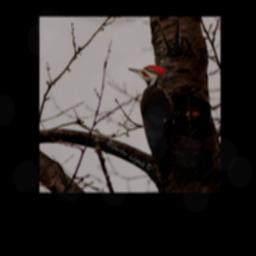Woodpecker: (126, 65, 178, 185)
